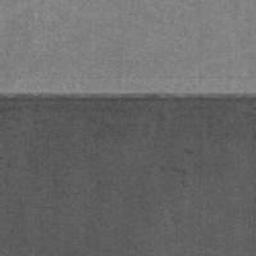Welding line: (0, 91, 256, 104)
